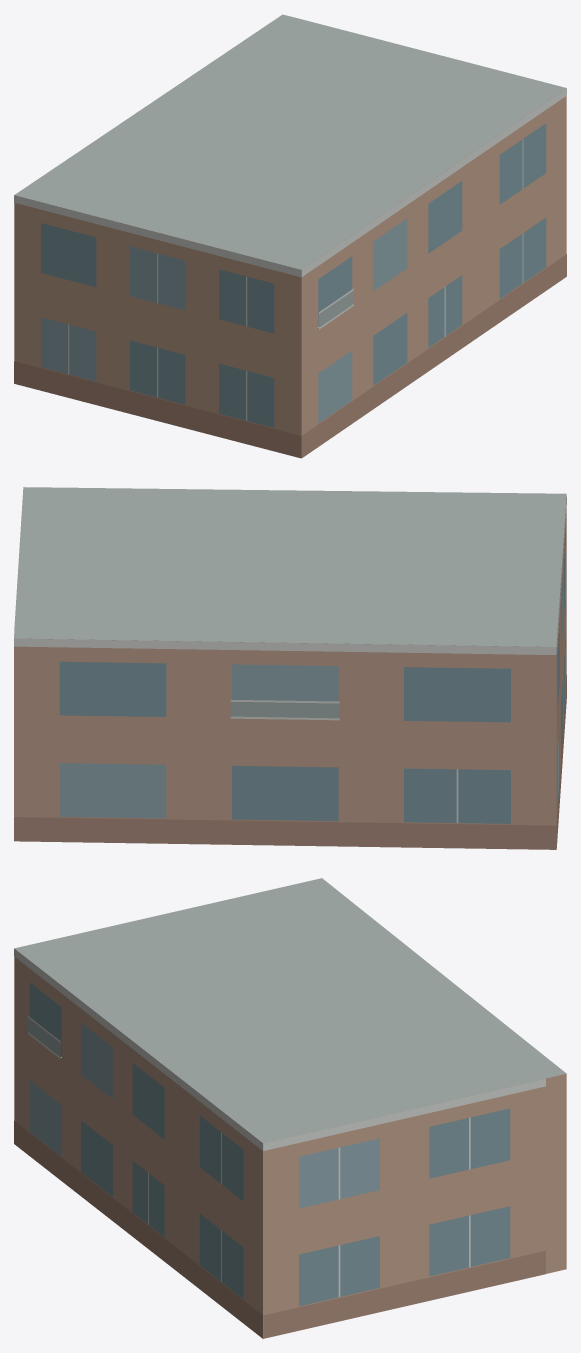
File: survey-upis-32588505.glb
3 views of the same model, one above another, from view 1: azimuth 30°, elevation 25°; view 2: azimuth 150°, elevation 25°; view 3: azimuth 270°, elevation 25° (orthographic). The views are drawn at different scales.
Parts seen in each view (by area): view 1: survey-upis-32588505.tmp; view 2: survey-upis-32588505.tmp; view 3: survey-upis-32588505.tmp.
Boxes of the visible parts, x1=… form: survey-upis-32588505.tmp: x1=14, y1=14, x2=566, y2=458; survey-upis-32588505.tmp: x1=14, y1=487, x2=566, y2=849; survey-upis-32588505.tmp: x1=14, y1=878, x2=566, y2=1338.
Bounding box in the file's own units: 17.76 × 6.1 × 15.64.
